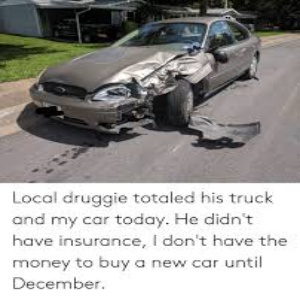bonnet: (103, 40, 172, 77)
bumper: (91, 99, 158, 143)
